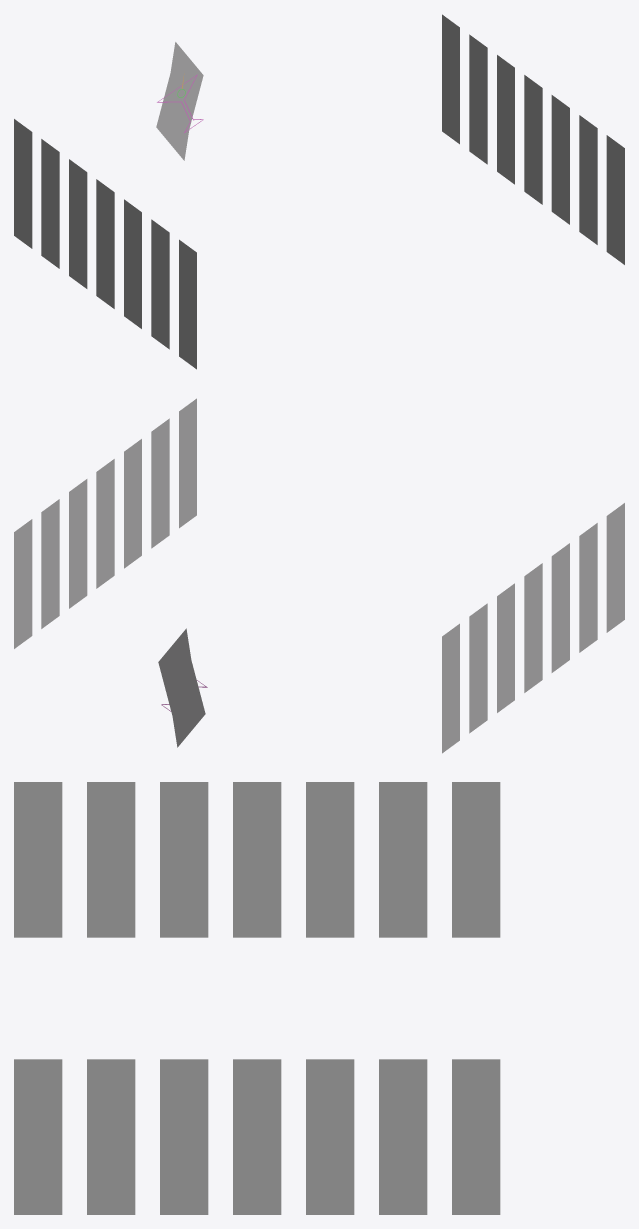
File: Bar_Detail.fbx
3 renders of one model, top to bottom at view 1: azimuth 30°, elevation 25°; view 2: azimuth 150°, elevation 25°; view 3: azimuth 270°, elevation 25°, orthographic. The views are drawn at different scales.
Parts seen in each view (by area): view 1: Bar_Detail; view 2: Bar_Detail; view 3: Bar_Detail.
Part boxes in pixels (<box>): Bar_Detail: <box>14,14,624,369</box>; Bar_Detail: <box>14,398,624,753</box>; Bar_Detail: <box>14,782,500,1214</box>.
Size of the model in its own units: 1348 by 391 by 1256.
